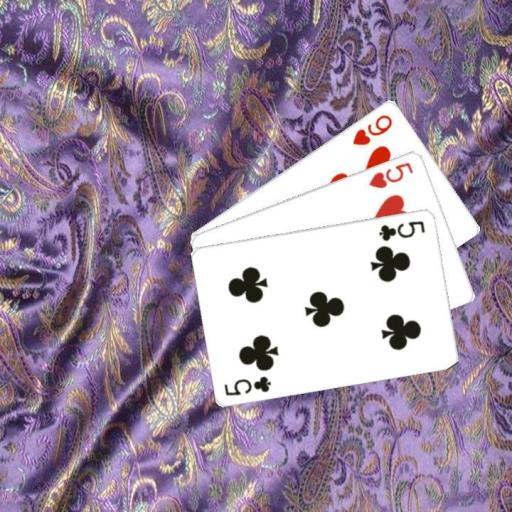5C: (376, 217, 427, 242), (221, 373, 273, 397)
5H: (366, 158, 416, 190)
9H: (349, 111, 394, 146)
